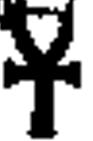Ankh: (1, 2, 84, 141)
